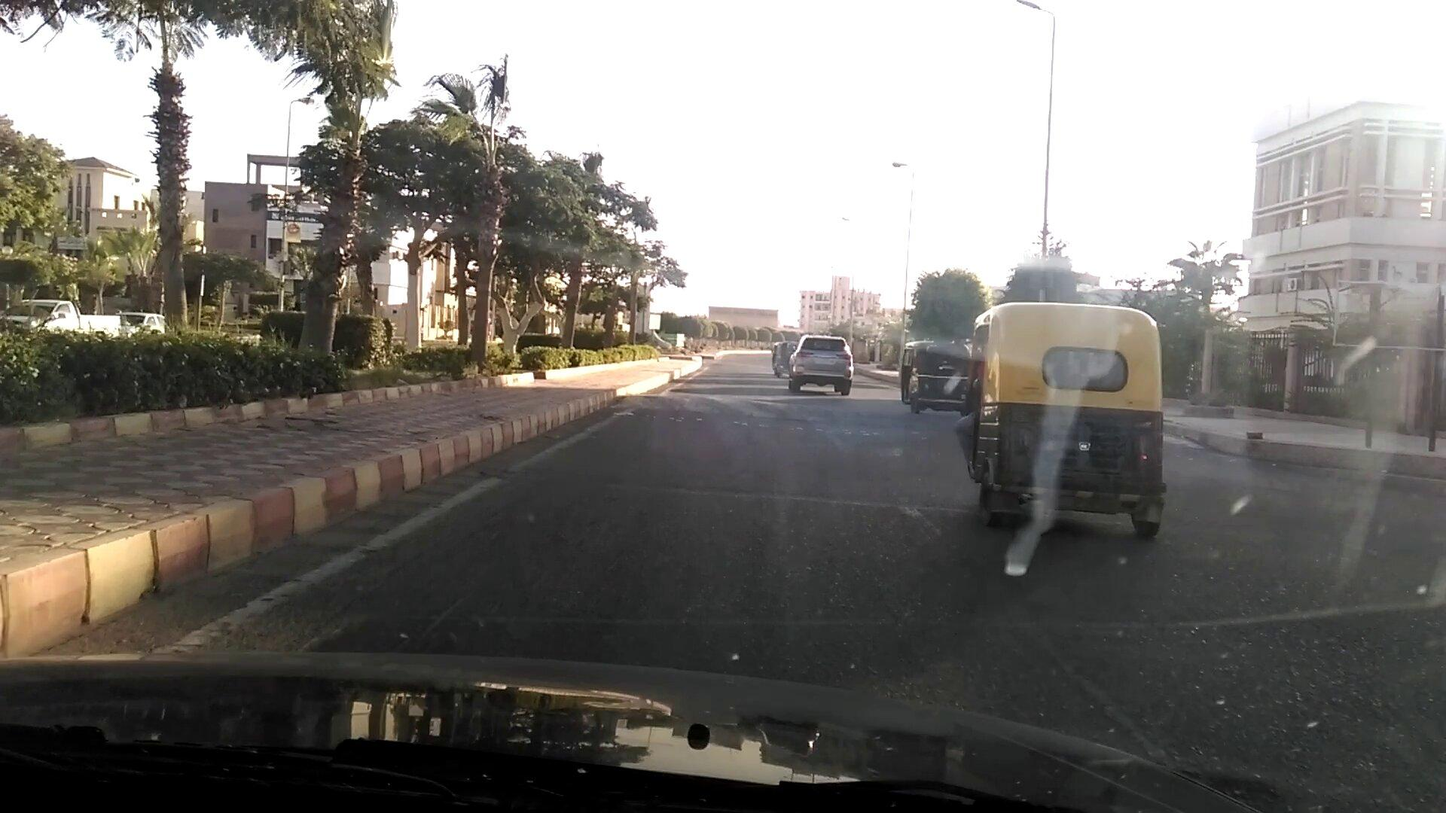Bump: (621, 388, 930, 425)
